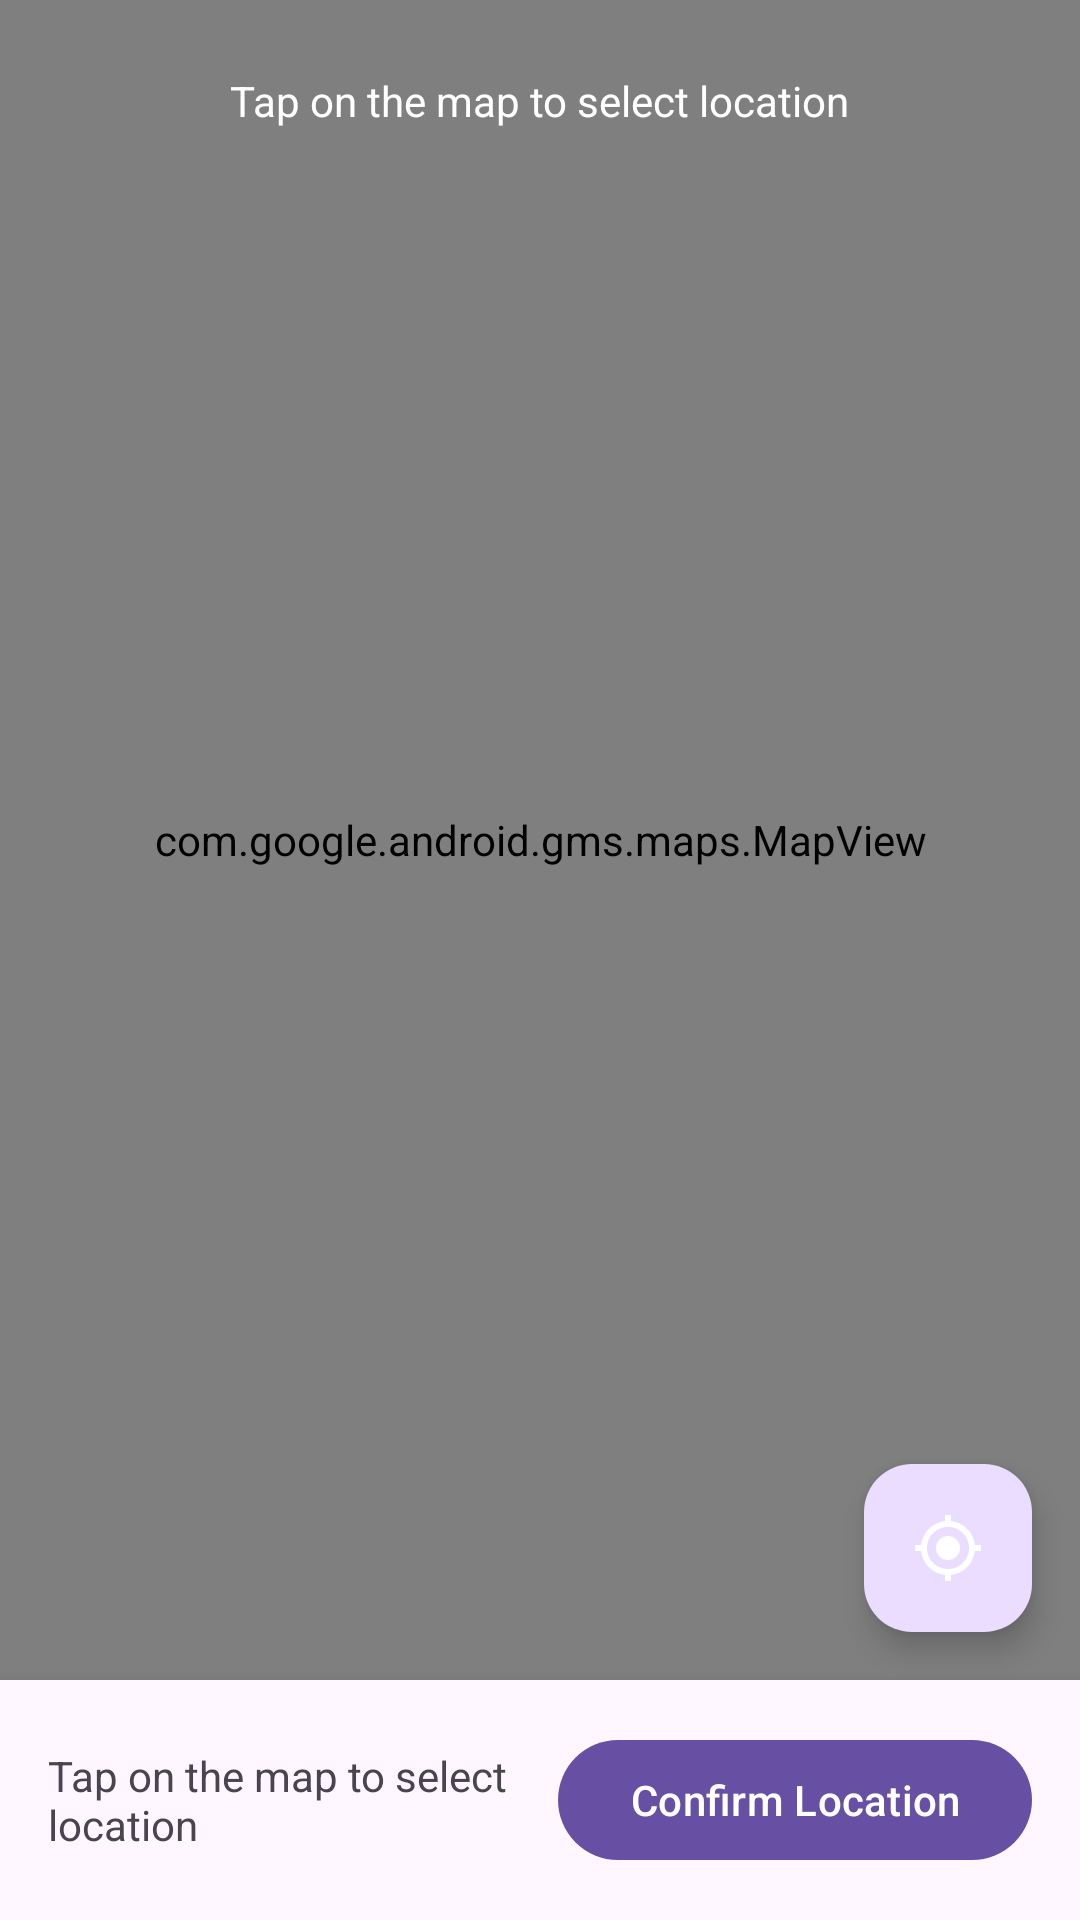

Icon click points for this 1080x1920 phone screenshot, format point (x, y):
My location: point (948, 1548)
